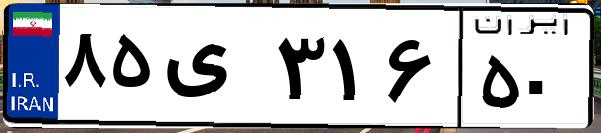0: (525, 38, 570, 115)
1: (330, 28, 385, 110)
3: (270, 28, 330, 110)
5: (475, 38, 525, 113), (110, 28, 158, 98)
6: (385, 28, 445, 110)
8: (57, 26, 110, 100)
ی: (158, 20, 270, 120)
